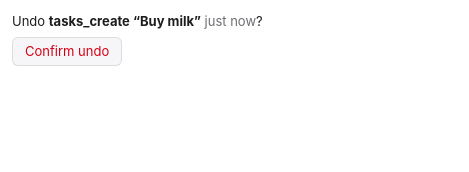
it: /undo arm › 409 stale: hides Confirm, friendly text, no raw id, link to Activity
Later steps or results of the test are not shown.
What coordinates should you click on to do the following:
click the button with test id "undo-confirm-cmd"
I would click on:
 (67, 51)
Its box is [12,37,122,66].
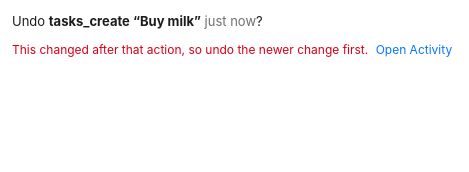
Expected: the message with test id "undo-stale" shows "undo the newer change first", [12,42,368,57]
Expected: the button with test id "undo-confirm-cmd" is gone
